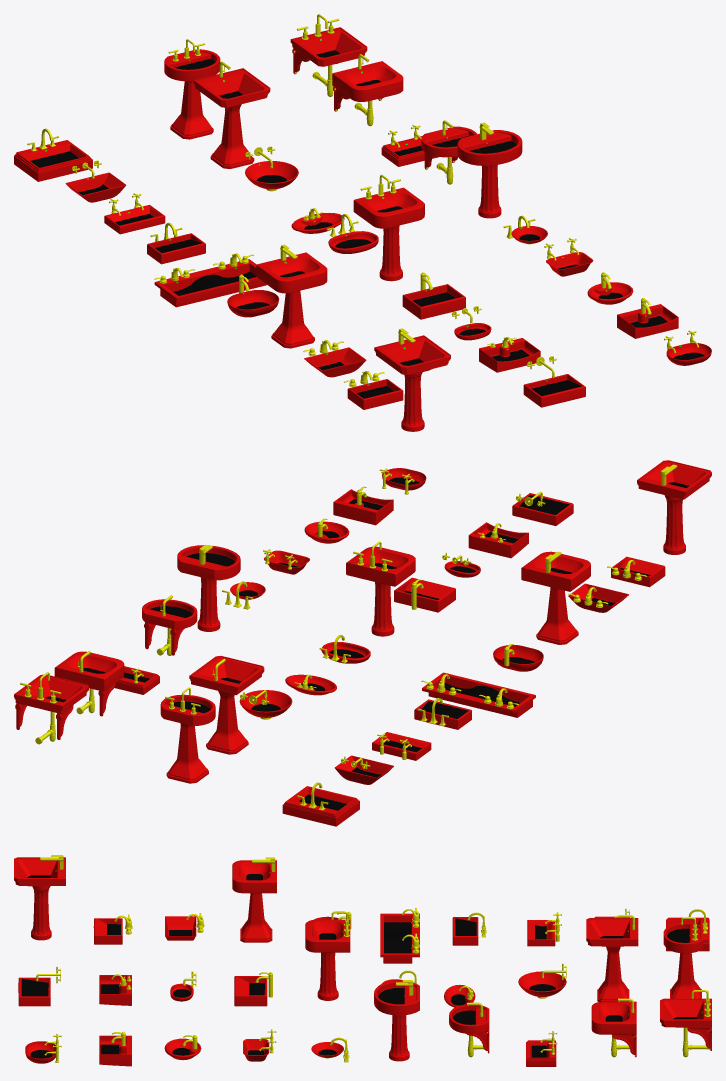
File: sinks_grp.fbx
3 renders of one model, top to bottom at view 1: azimuth 30°, elevation 25°; view 2: azimuth 150°, elevation 25°; view 3: azimuth 270°, elevation 25°, orthographic. The views are drawn at different scales.
Parts seen in each view (by area): view 1: sink_4, sink_19, sink_15, sink_1, sink_20, sink_26, sink_29, sink_30, sink_6, sink_10, sink_27, sink_14 (+17 smaller); view 2: sink_19, sink_4, sink_1, sink_15, sink_20, sink_30, sink_26, sink_29, sink_6, sink_27, sink_10, sink_14 (+16 smaller); view 3: sink_19, sink_4, sink_1, sink_15, sink_30, sink_29, sink_26, sink_20, sink_27, sink_6, PS_sinkbasin_6, sink_14 (+17 smaller).
Part boxes in pixels (x1,y1,x2,y2): sink_4: (256,252,327,348); sink_19: (193,68,270,168); sink_15: (353,187,424,281); sink_1: (374,335,450,431); sink_20: (164,49,220,139); sink_26: (457,130,522,218); sink_29: (332,61,403,126); sink_30: (290,27,367,96); sink_6: (154,259,266,307); sink_10: (14,140,92,181); sink_27: (421,126,476,184); sink_14: (402,284,465,319); sink_19: (189,656,264,754); sink_4: (521,551,590,644); sink_1: (637,460,711,554); sink_15: (346,546,415,636); sink_20: (160,694,215,783); sink_30: (14,674,88,744); sink_26: (177,545,240,631); sink_29: (54,651,124,716); sink_6: (422,672,535,717); sink_27: (142,599,197,655); sink_10: (282,786,359,826); sink_14: (394,577,455,612); sink_19: (586,918,638,1001); sink_4: (232,860,276,942); sink_1: (14,857,65,940); sink_15: (305,919,350,1000); sink_30: (660,998,711,1057); sink_29: (591,1001,636,1057); sink_26: (374,980,419,1061); sink_20: (663,922,703,998); sink_27: (449,1004,489,1057); sink_6: (380,913,419,963); PS_sinkbasin_6: (384,922,411,953); sink_14: (234,976,267,1006).
Size of the model in its own units: 513 by 144 by 975.
